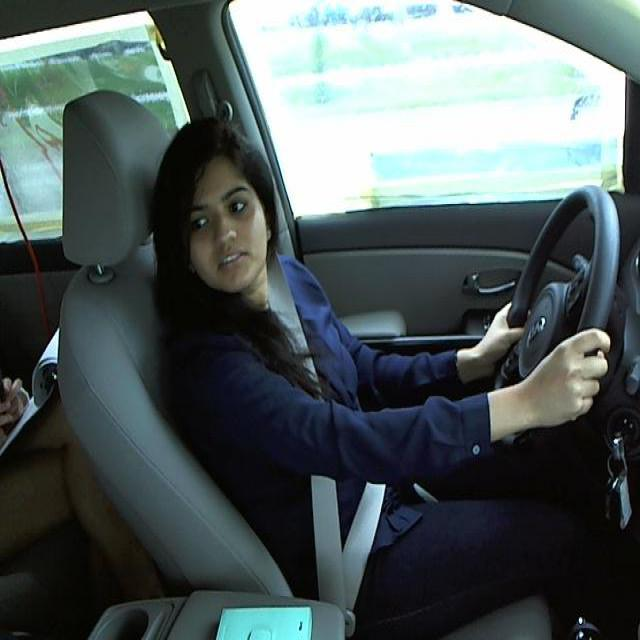seatbelt: (278, 280, 387, 604)
